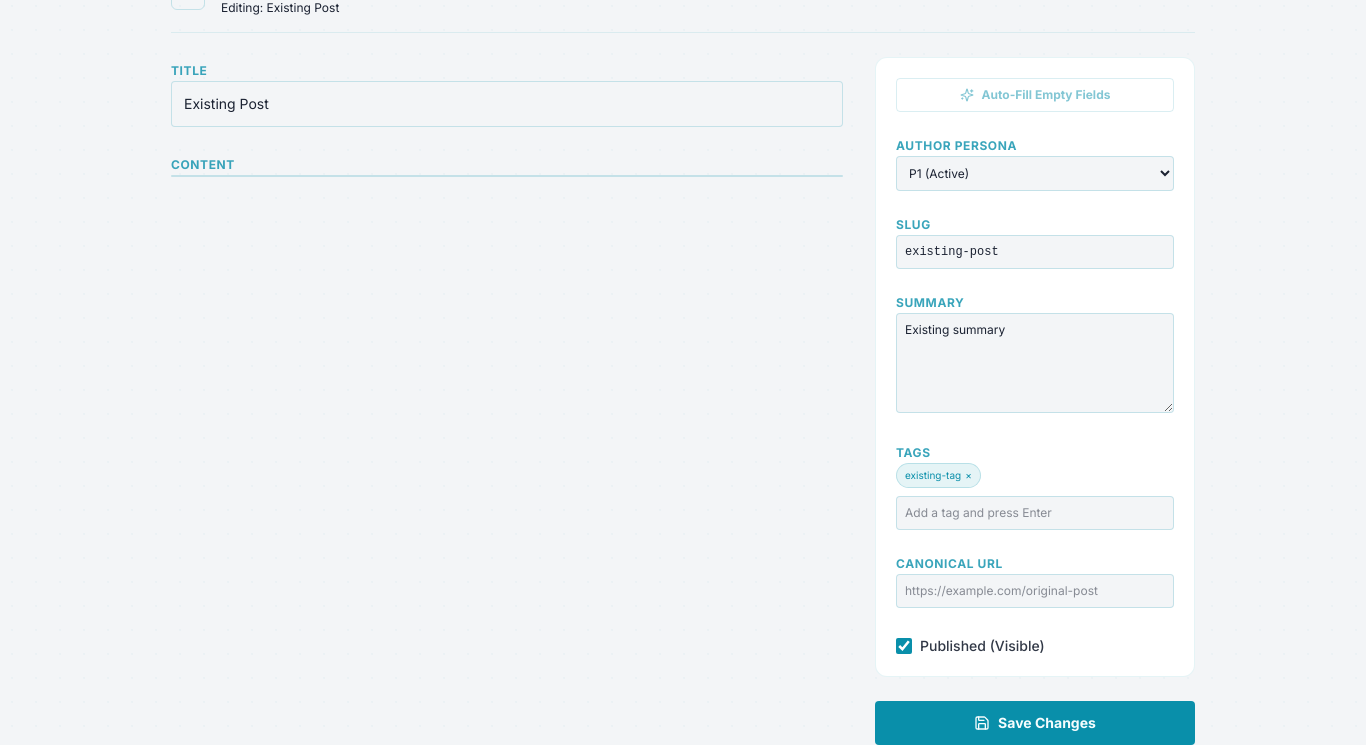
Test: EditBlogPage › shows error when save fails
expect the field with placeholder "Post Title..." below "Title" holds "Existing Post": met, box top-left (171, 81), bottom-right (843, 127)
Click the button "Save Changes". click: (1035, 723)
box: top-left (875, 701), bottom-right (1195, 744)
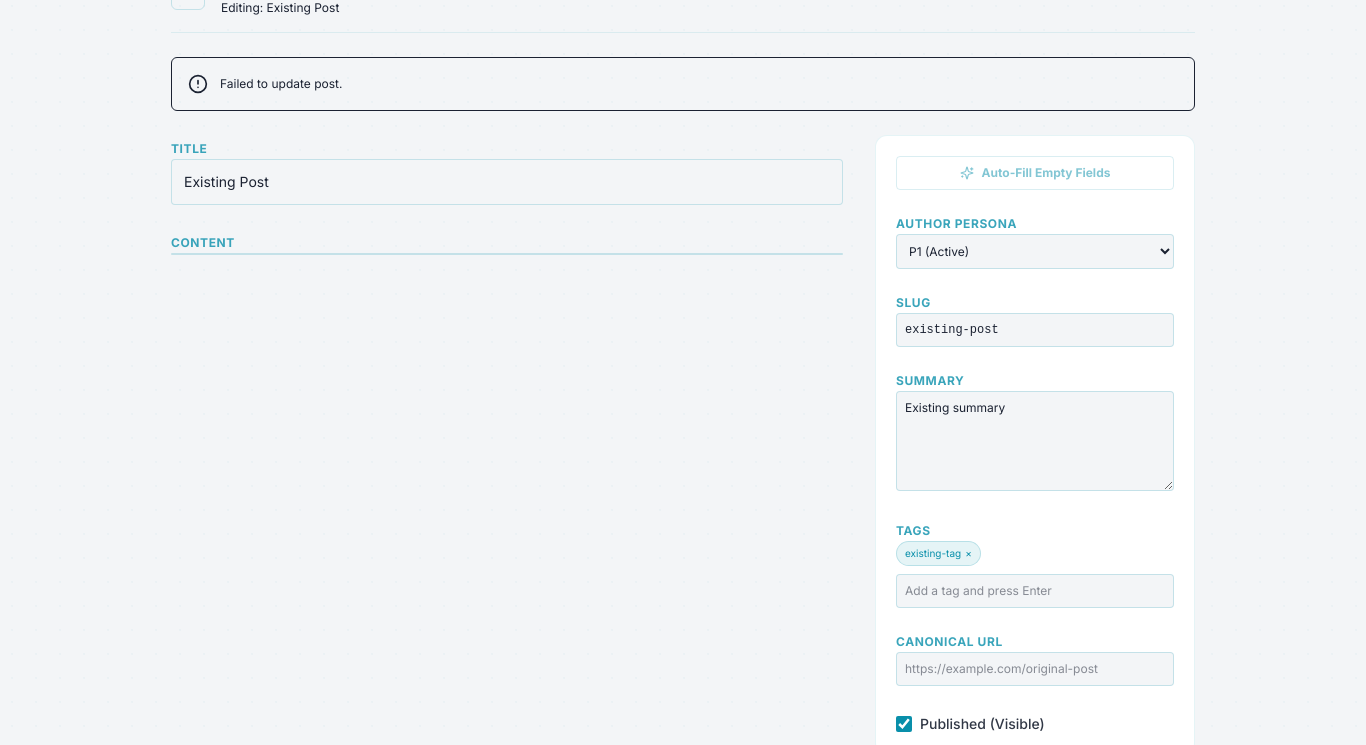
expect the text "Failed to update post." is shown: met, box top-left (220, 76), bottom-right (342, 92)
